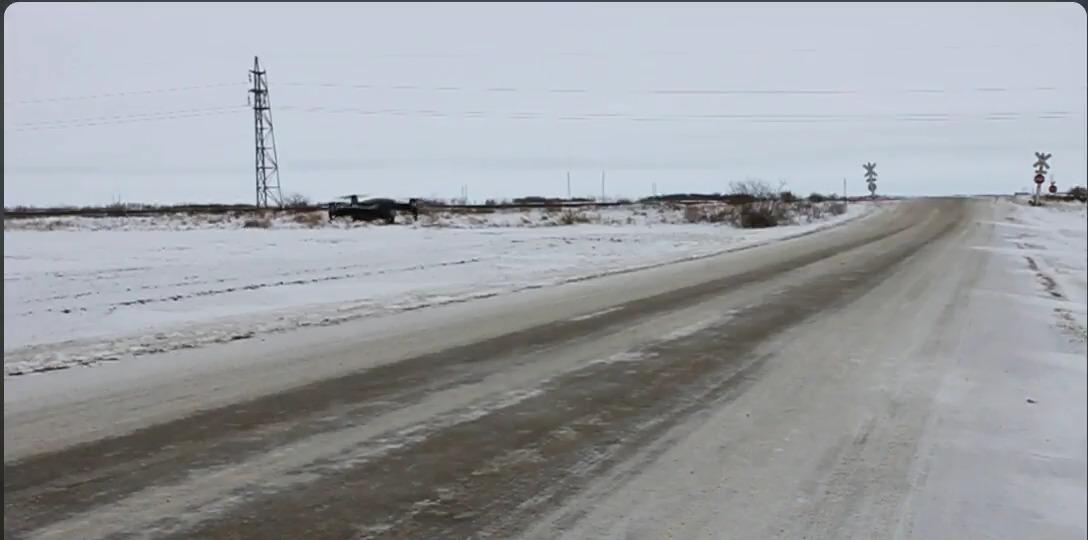dr: (317, 191, 427, 225)
